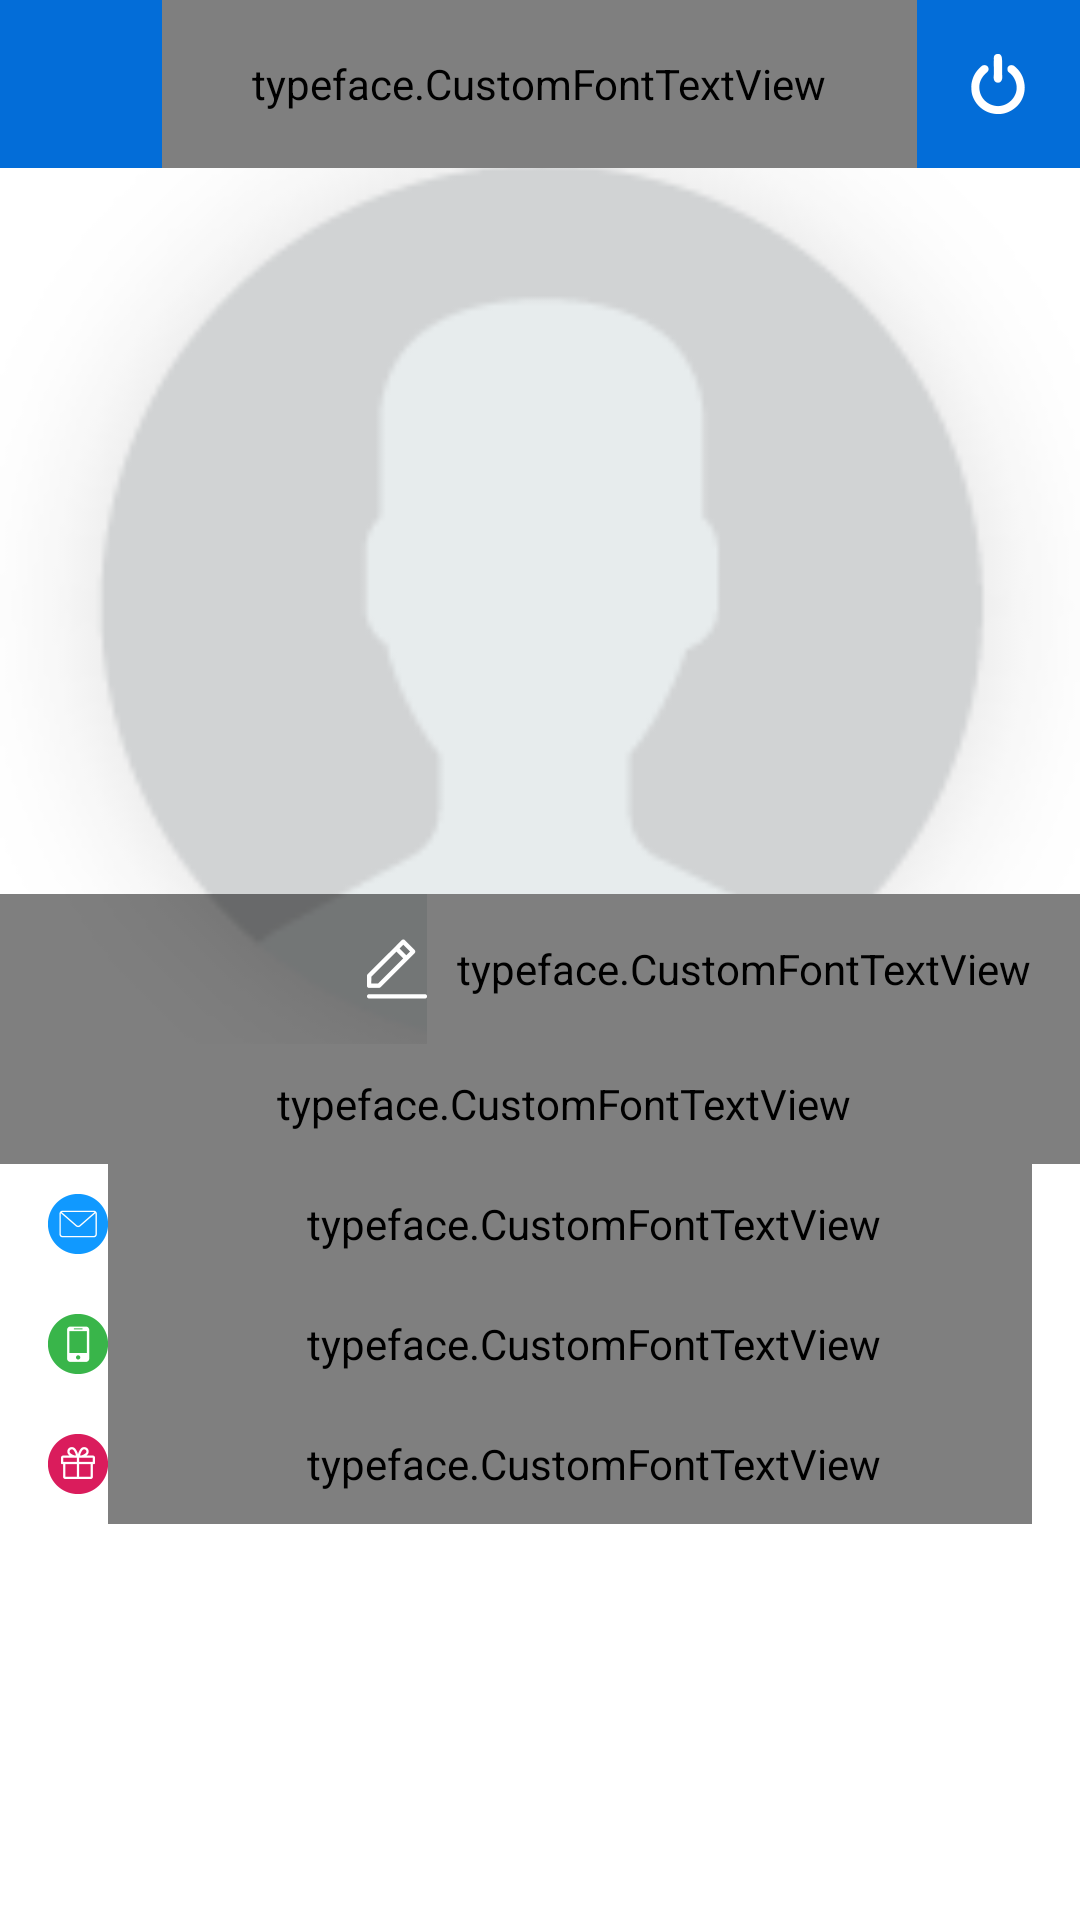

Where icons sit on this 1080x1920 app screen, as bbox=(x1, y1, x2, y2):
dob: bbox=(48, 1434, 108, 1494)
edit pro: bbox=(367, 939, 427, 999)
log out: bbox=(971, 54, 1025, 114)
mail: bbox=(48, 1194, 108, 1254)
phone: bbox=(48, 1314, 108, 1374)
